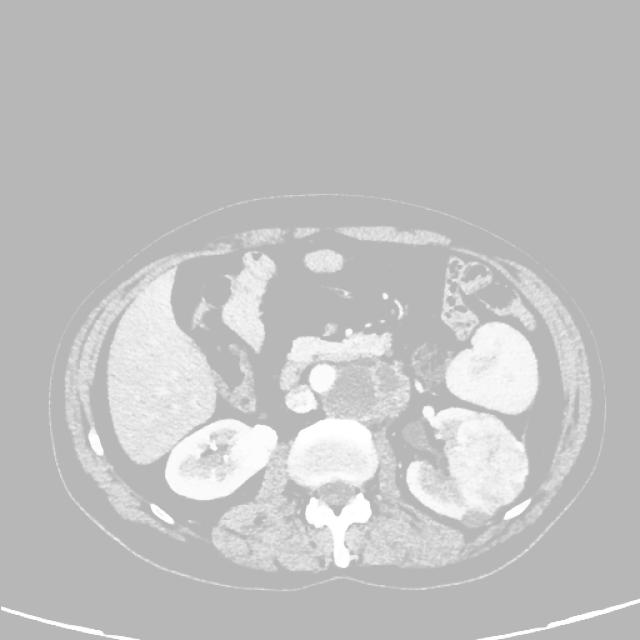TUMOR: (161, 288, 592, 581), (113, 252, 147, 270)
